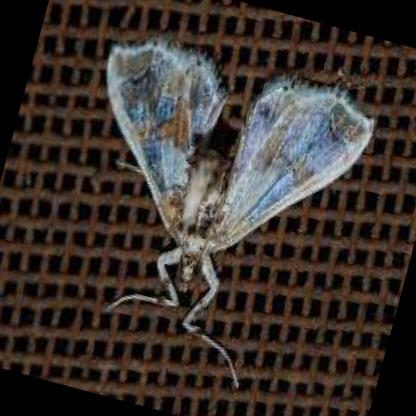leucinodes: (106, 43, 373, 327)
